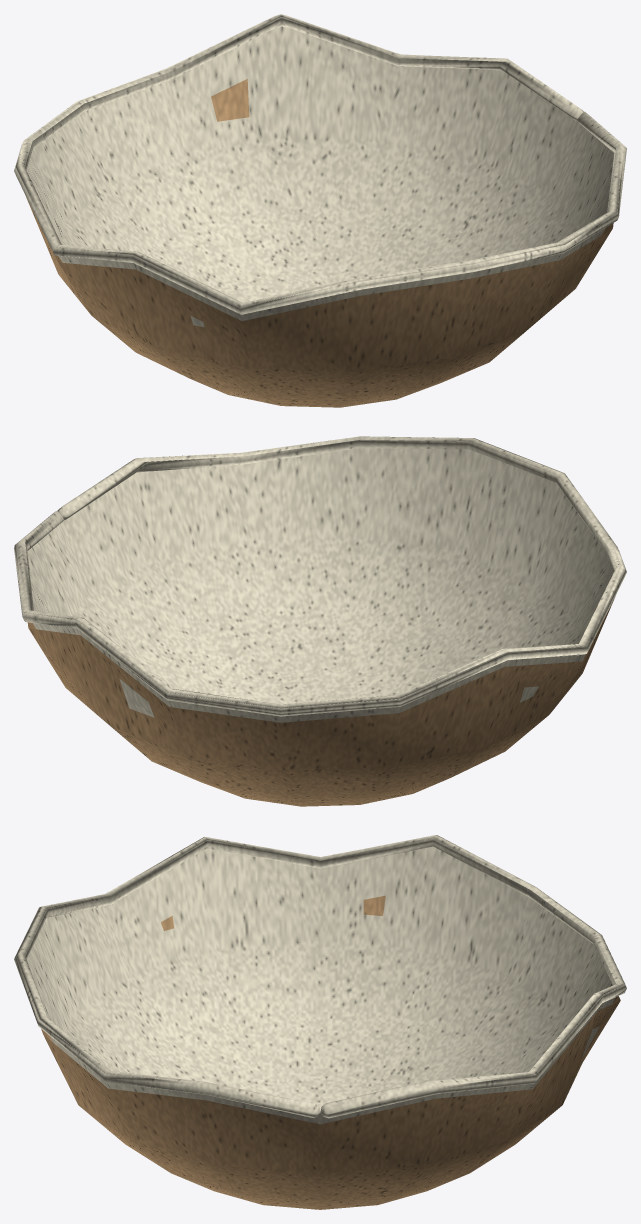
Rendered from food-14-residue.glb.
3 renders of one model, top to bottom at view 1: azimuth 30°, elevation 25°; view 2: azimuth 150°, elevation 25°; view 3: azimuth 270°, elevation 25°, orthographic.
Visible parts, largest first — view 1: Food; view 2: Food; view 3: Food.
Boxes of the visible parts, bbox=[...] form: Food: bbox=[14, 14, 626, 407]; Food: bbox=[14, 436, 626, 806]; Food: bbox=[14, 835, 626, 1209].
Bounding box in the file's own units: 0.2772 × 0.1118 × 0.2769.
1 material, 1 textured.
